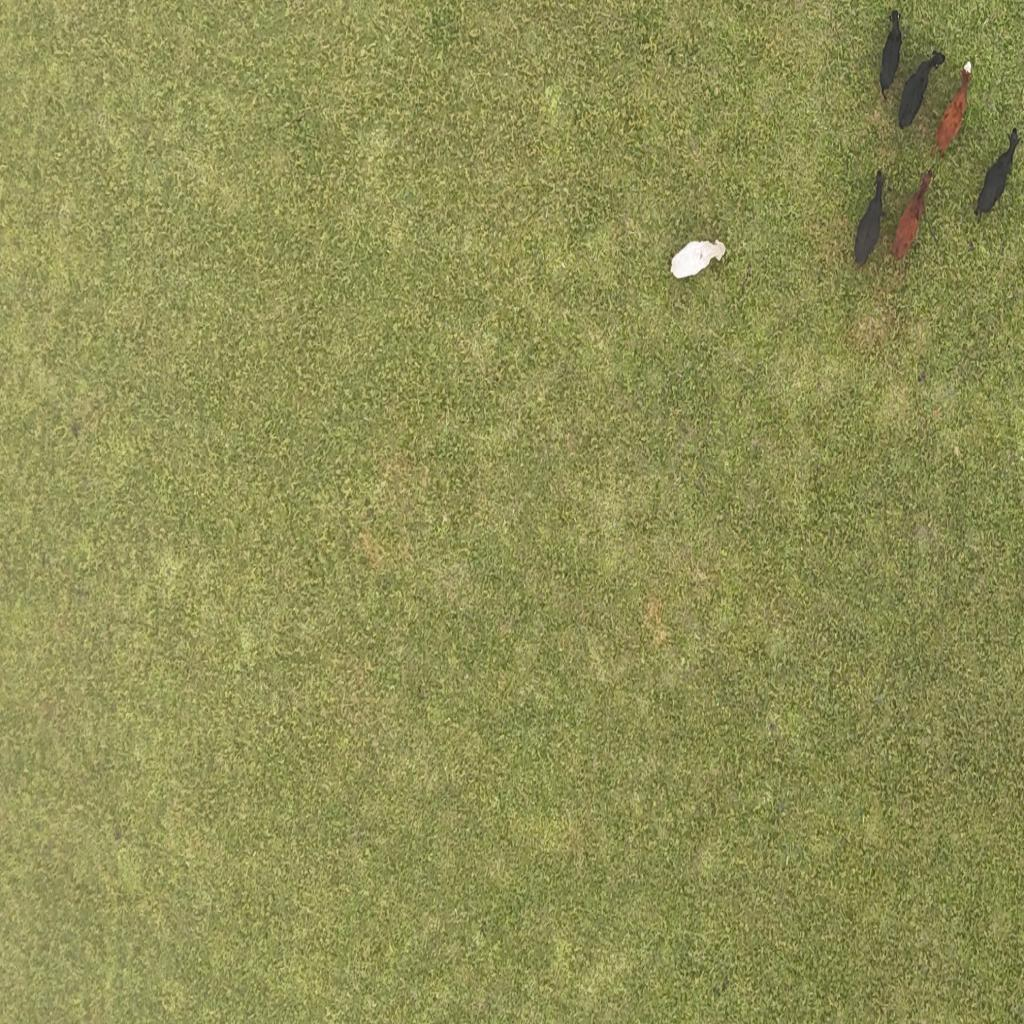cow: (969, 120, 1021, 222), (888, 168, 936, 268), (933, 60, 975, 162), (896, 49, 945, 134), (853, 170, 885, 267), (876, 4, 903, 100), (669, 232, 725, 278)
